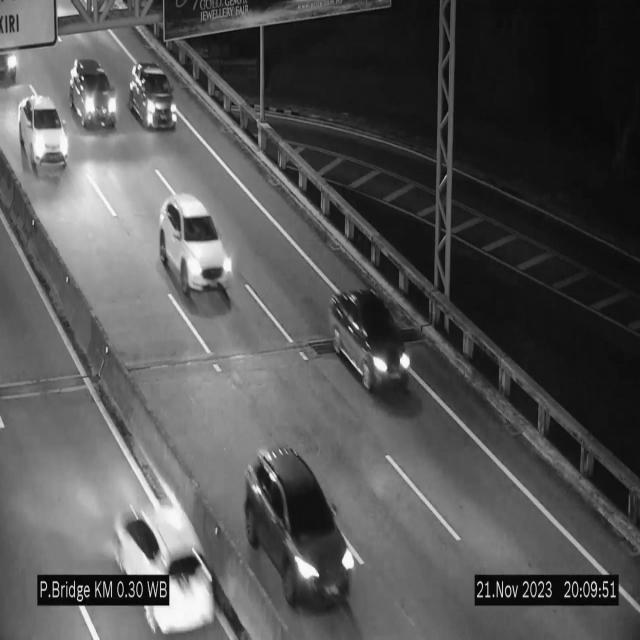Car: (244, 447, 356, 620), (109, 481, 228, 640), (328, 288, 416, 392), (159, 196, 232, 304), (15, 88, 74, 175), (129, 60, 177, 129), (70, 58, 118, 127), (0, 34, 20, 90)
